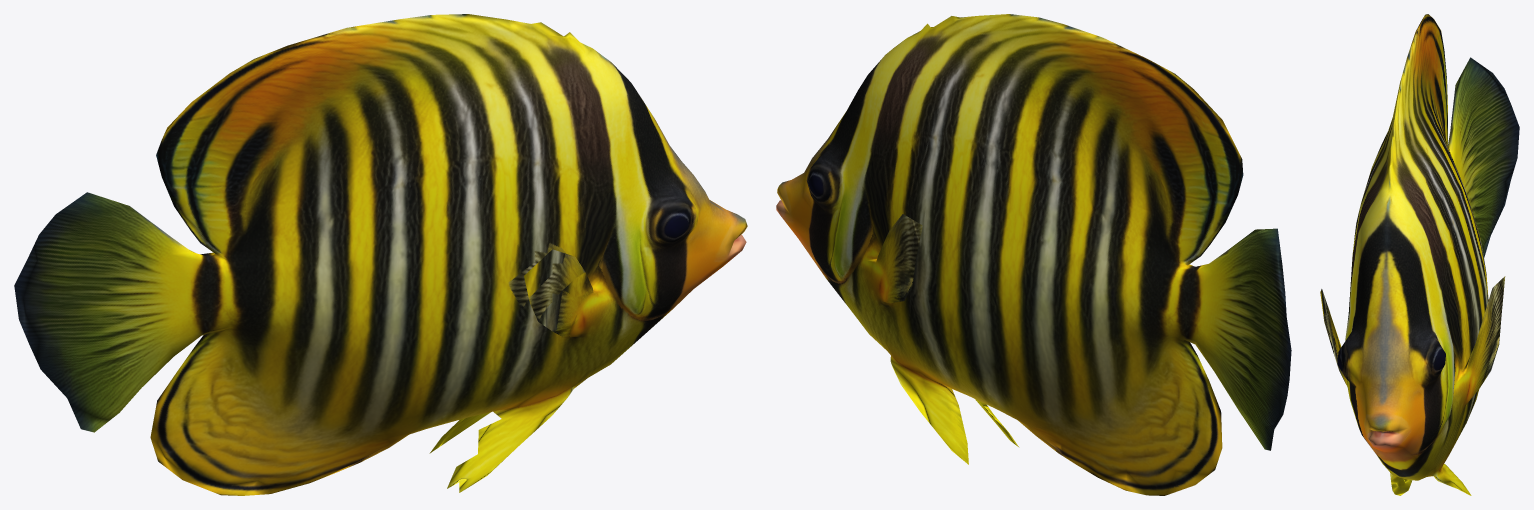
The model's file is tropicalfish_b1_single_1500.glb.
3 renders of one model, left to right at view 1: azimuth 30°, elevation 25°; view 2: azimuth 150°, elevation 25°; view 3: azimuth 270°, elevation 25°, orthographic. The views are drawn at different scales.
Size of the model in its own units: 0.9093 by 0.6469 by 0.2823.
1 material, 1 textured.
